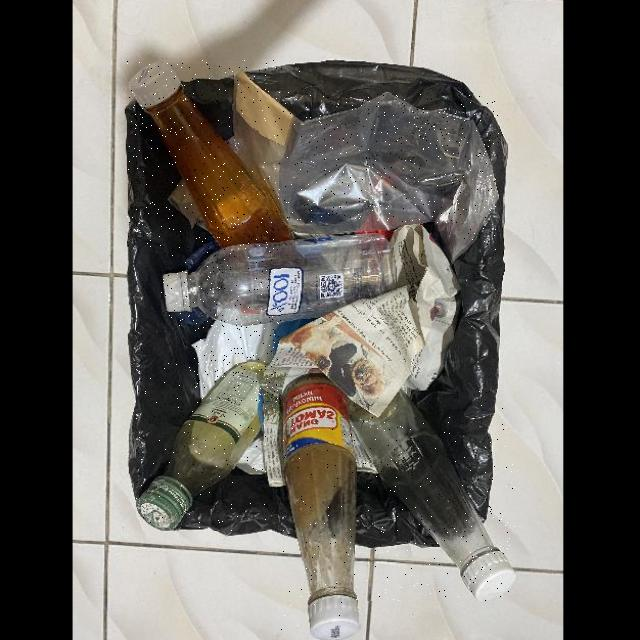glass: (349, 389, 515, 600), (128, 60, 295, 246), (136, 361, 266, 530), (282, 378, 360, 640)
paper: (281, 225, 463, 417)
plastic: (281, 94, 499, 257), (162, 232, 396, 326), (226, 69, 306, 212), (194, 320, 279, 402)
